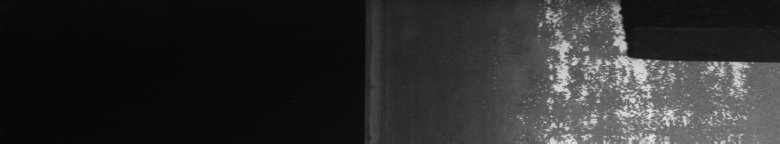kb: (510, 4, 776, 136)
